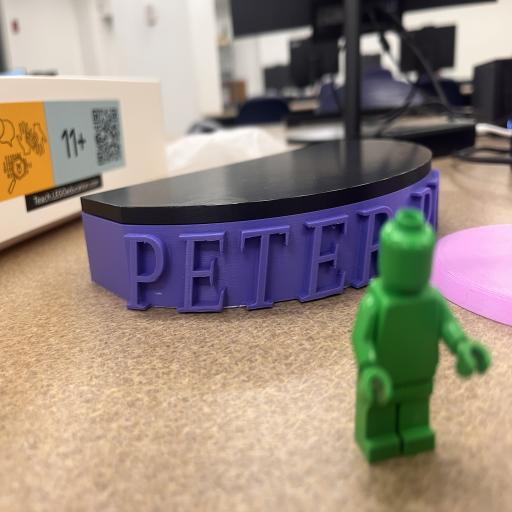Lego-Minifig: (352, 207, 490, 462)
